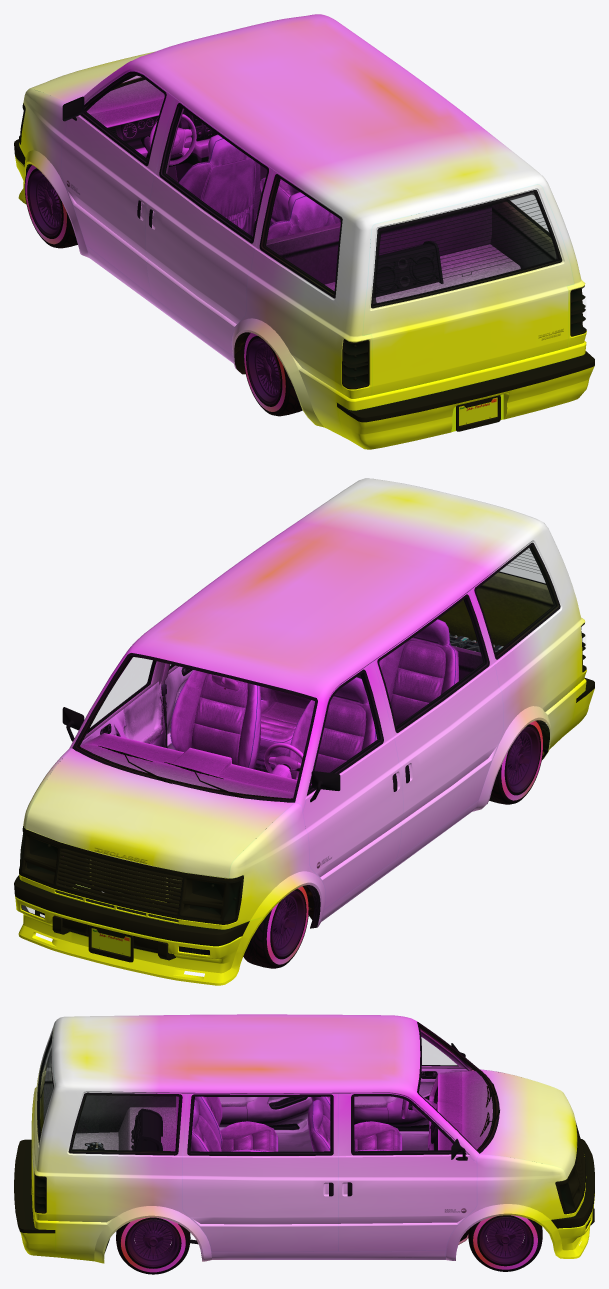
File: moonbeam2.glb
3 renders of one model, top to bottom at view 1: azimuth 30°, elevation 25°; view 2: azimuth 150°, elevation 25°; view 3: azimuth 270°, elevation 25°, orthographic. The views are drawn at different scales.
Parts seen in each view (by area): view 1: bodyshell, boot, door_dside_r, windscreen_r, door_dside_f, misc_l, bumper_r, chassis, window_lr, misc_k, misc_a, wing_lf (+7 smaller); view 2: bodyshell, bonnet, misc_k, door_dside_r, door_dside_f, bumper_f, window_lr, misc_l, wing_lf, misc_a, misc_e, boot (+11 smaller); view 3: bodyshell, door_pside_r, door_pside_f, window_rr, bonnet, chassis, wing_rf, misc_k, misc_b, window_rf, misc_l, wheel_rf (+10 smaller).
Boxes of the visible parts, bbox=[...] form: bodyshell: bbox=[19, 14, 586, 440]; boot: bbox=[362, 184, 574, 395]; door_dside_r: bbox=[145, 99, 272, 355]; windscreen_r: bbox=[372, 192, 560, 306]; door_dside_f: bbox=[61, 70, 175, 295]; misc_l: bbox=[86, 79, 491, 284]; bumper_r: bbox=[337, 351, 594, 449]; chassis: bbox=[21, 75, 557, 374]; window_lr: bbox=[163, 107, 266, 239]; misc_k: bbox=[178, 134, 340, 239]; misc_a: bbox=[262, 178, 340, 293]; wing_lf: bbox=[19, 88, 89, 257]; bodyshell: bbox=[19, 478, 586, 929]; bonnet: bbox=[26, 748, 294, 878]; misc_k: bbox=[170, 619, 458, 783]; door_dside_r: bbox=[373, 590, 503, 858]; door_dside_f: bbox=[303, 662, 403, 908]; bumper_f: bbox=[14, 875, 265, 985]; window_lr: bbox=[380, 599, 486, 728]; misc_l: bbox=[80, 646, 483, 798]; wing_lf: bbox=[221, 802, 325, 929]; misc_a: bbox=[477, 546, 557, 654]; misc_e: bbox=[57, 848, 182, 912]; boot: bbox=[438, 572, 553, 646]; bodyshell: bbox=[31, 1014, 586, 1263]; door_pside_r: bbox=[182, 1093, 338, 1252]; door_pside_f: bbox=[338, 1093, 476, 1251]; window_rr: bbox=[190, 1097, 330, 1152]; bonnet: bbox=[480, 1069, 577, 1178]; chassis: bbox=[43, 1023, 577, 1255]; wing_rf: bbox=[445, 1154, 575, 1260]; misc_k: bbox=[190, 1096, 402, 1151]; misc_b: bbox=[72, 1095, 179, 1152]; window_rf: bbox=[354, 1096, 460, 1152]; misc_l: bbox=[176, 1070, 492, 1150]; wheel_rf: bbox=[468, 1215, 542, 1271].
Bounding box in the file's own units: 2.08 × 1.68 × 4.87.
Materials: 21 (21 with a texture image).
